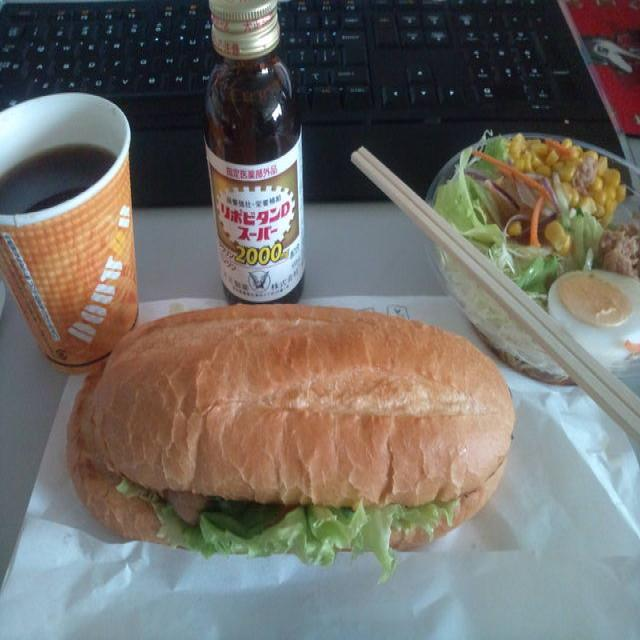Green Salad: (452, 123, 626, 286)
